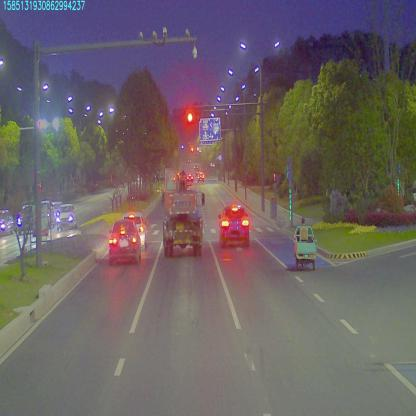traffic-light: (186, 110, 193, 124)
